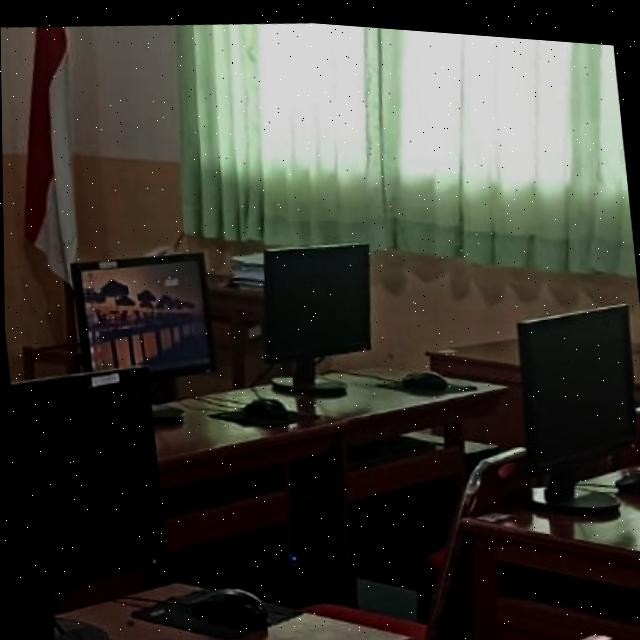offscreen: (9, 367, 160, 578), (516, 295, 633, 463), (263, 238, 369, 357)
onscreen: (72, 252, 213, 369)
